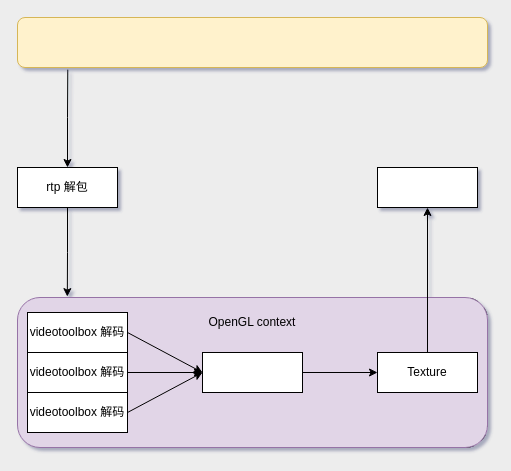
Some shapes in this 511 by 471 pixel diagram are drawn without their labels. The shapes that lost their labels are listed below. From the top down, each one's centre as x and y in pixels, then its label:
point 252,42: CPU
point 427,187: 显示
point 252,372: iOSSurface
